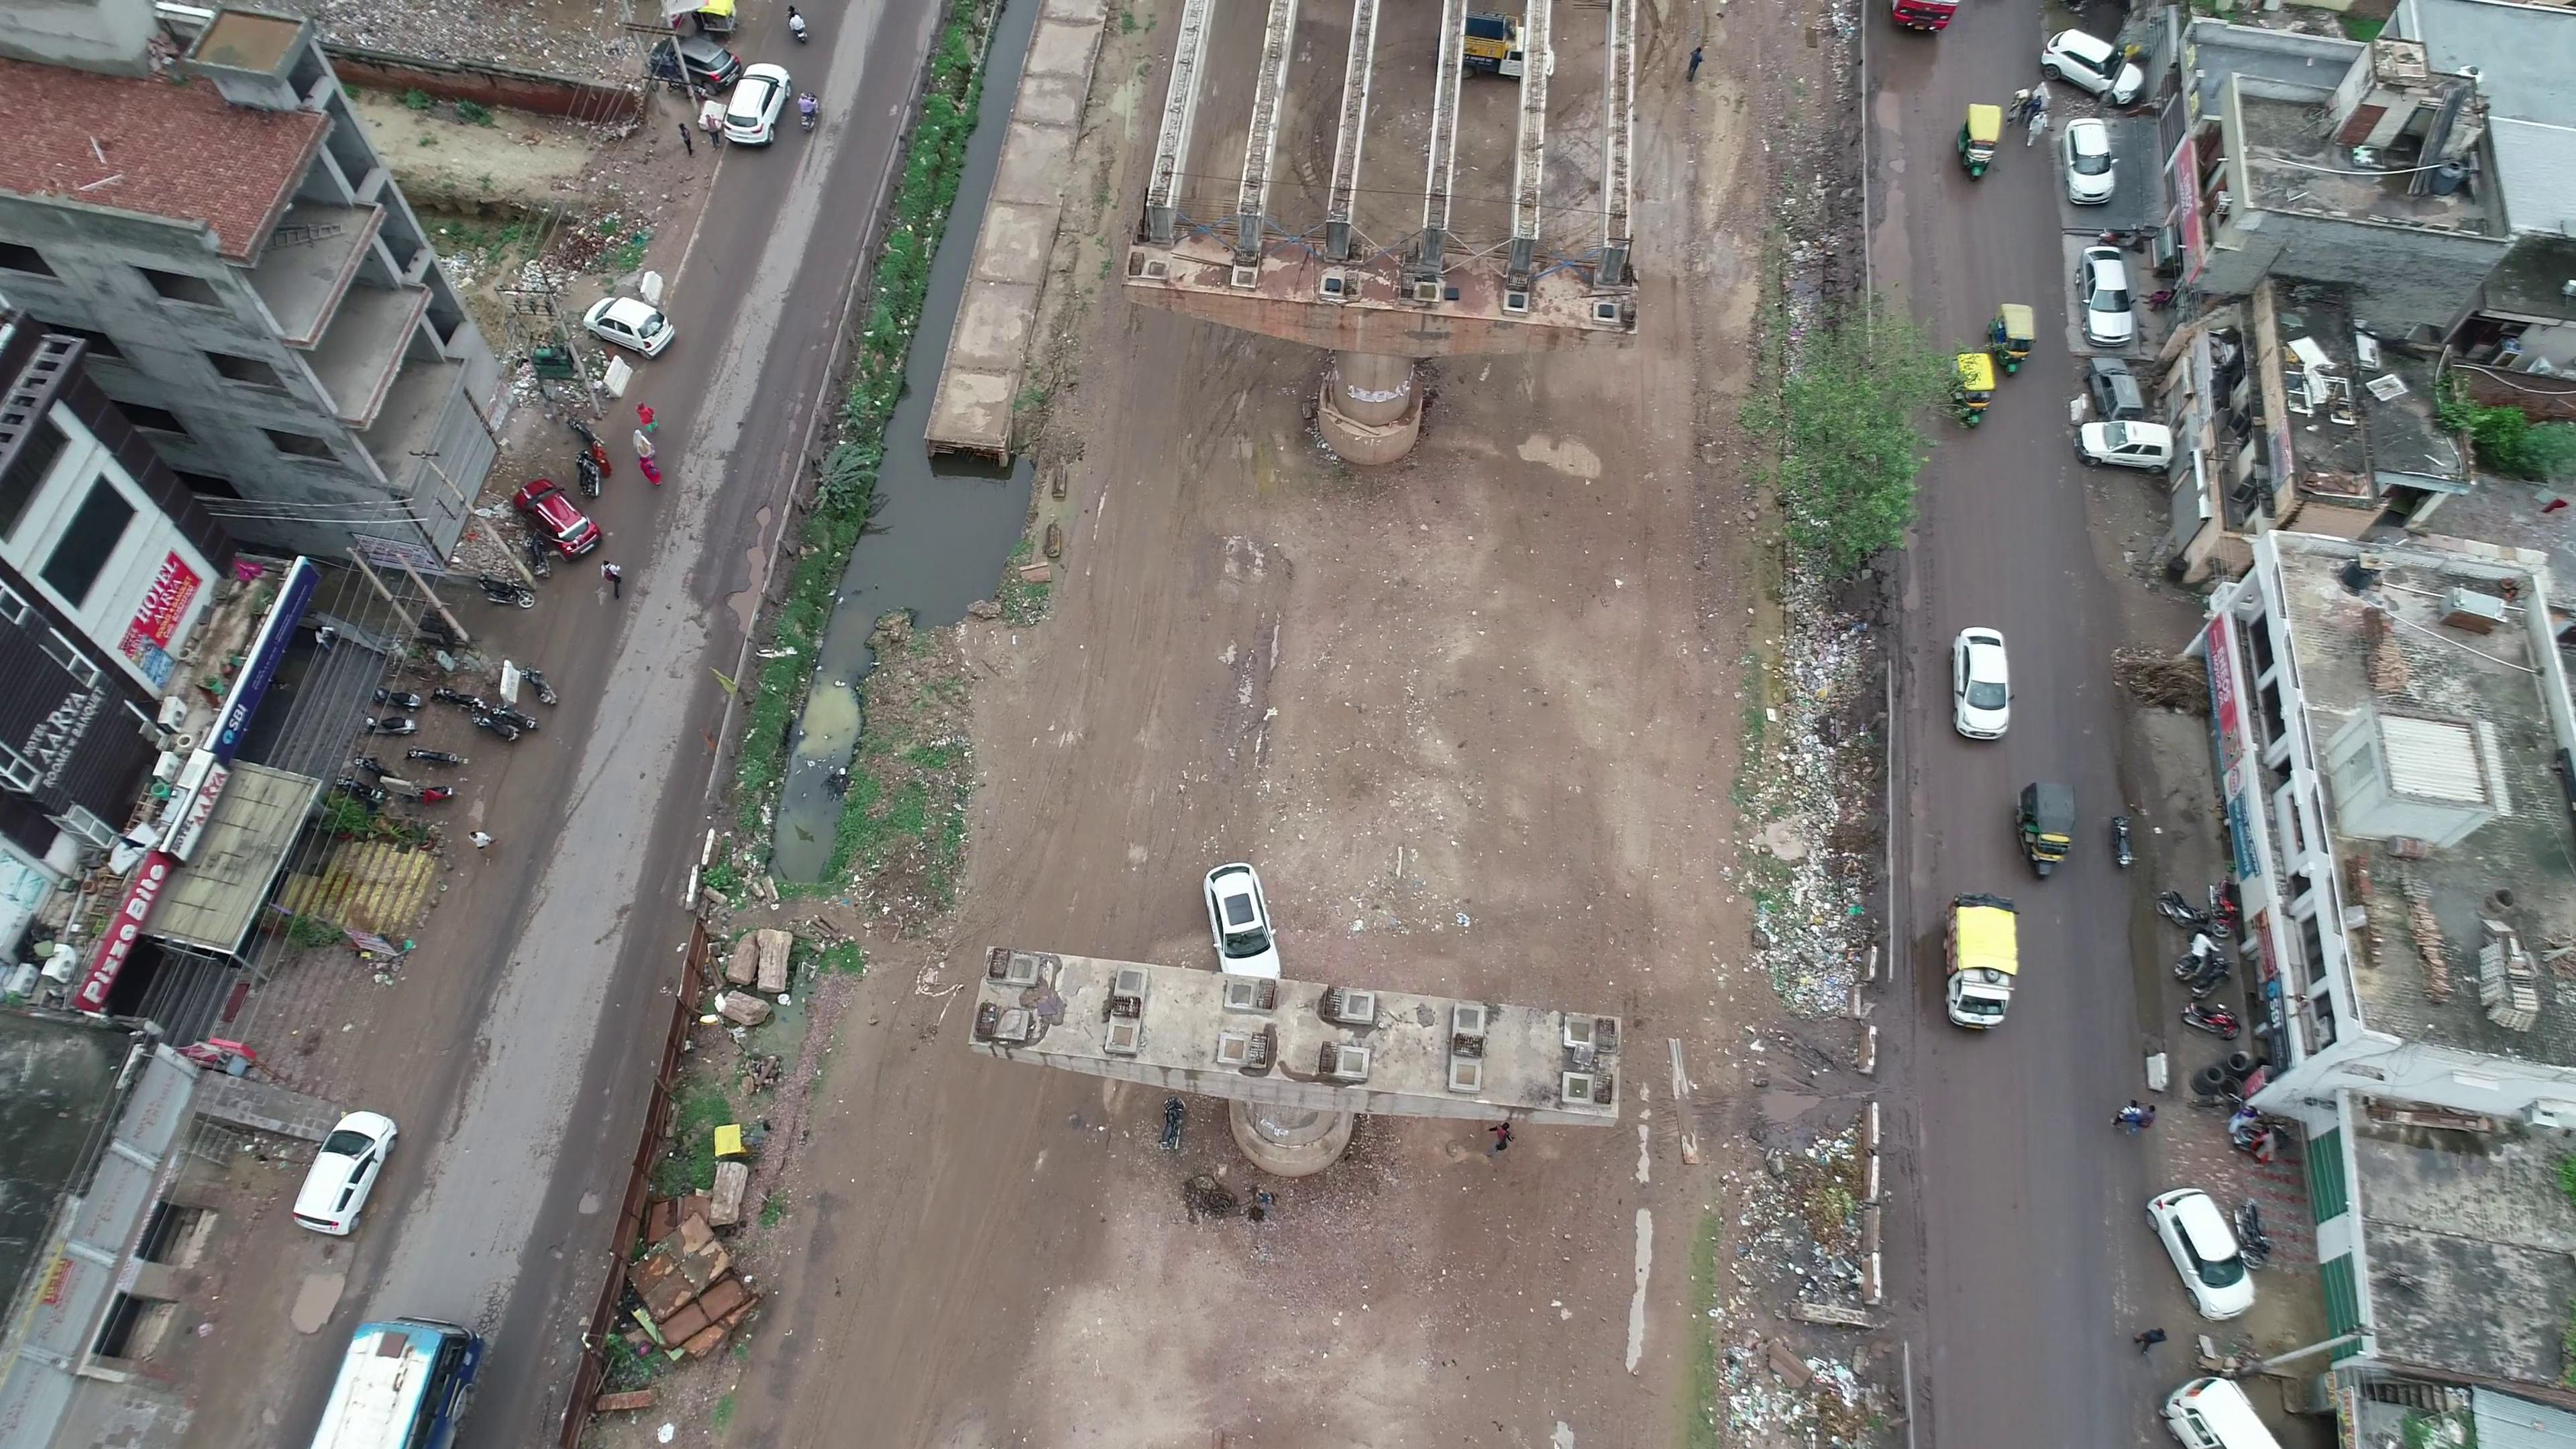Potholes: (702, 467, 791, 632)
